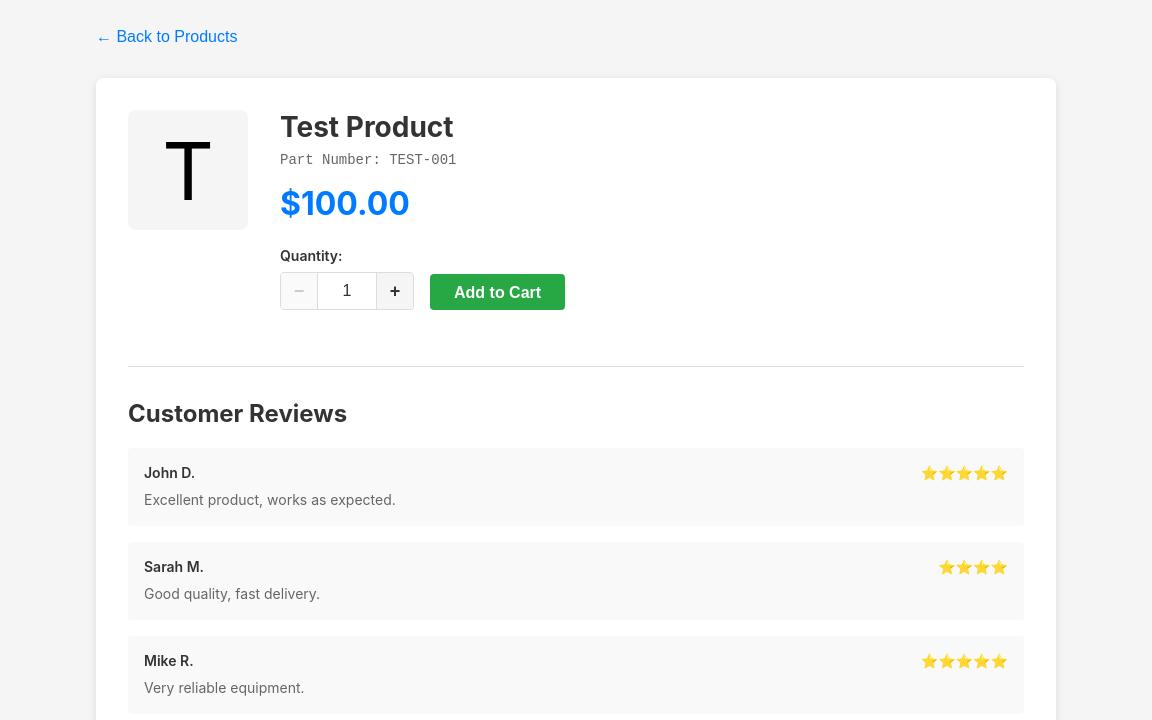
it: ProductPage › Add to Cart Functionality › should display success message after adding to cart
Click the button "Add to Cart": {"x": 498, "y": 292} 430,274 -> 565,310
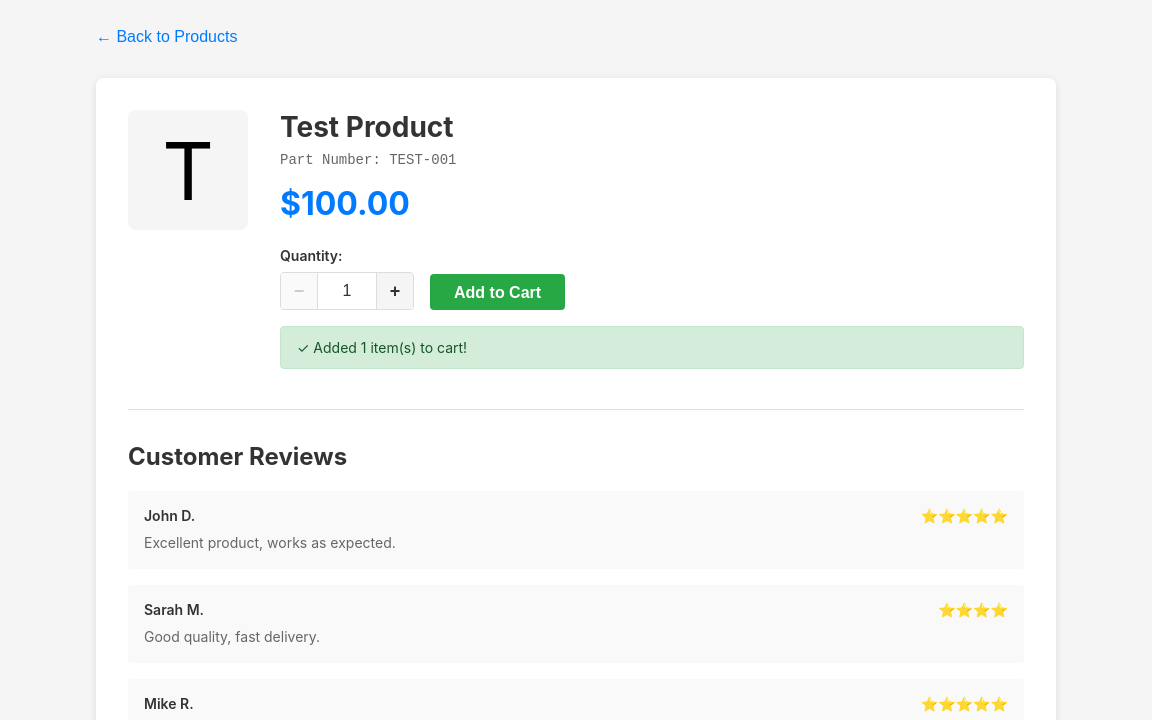
Check: the text "✓ Added 1 item(s) to cart!" is shown, box 280,326 -> 1024,369
